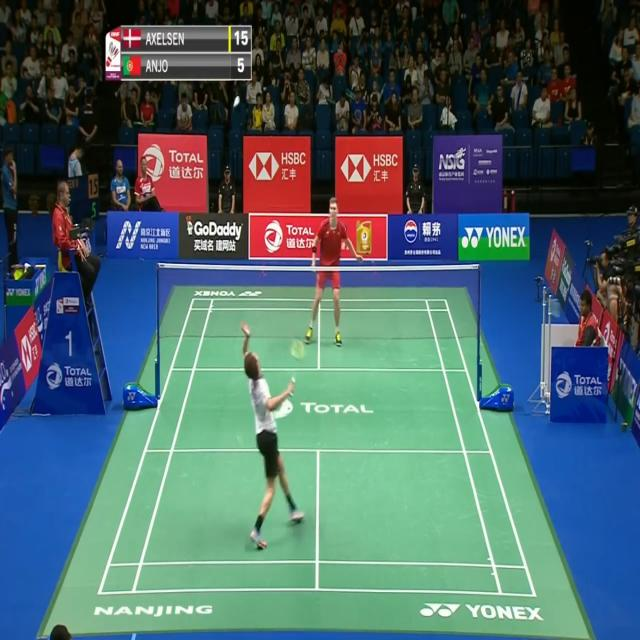Player1: (238, 322, 304, 552)
Player2: (302, 190, 364, 348)
